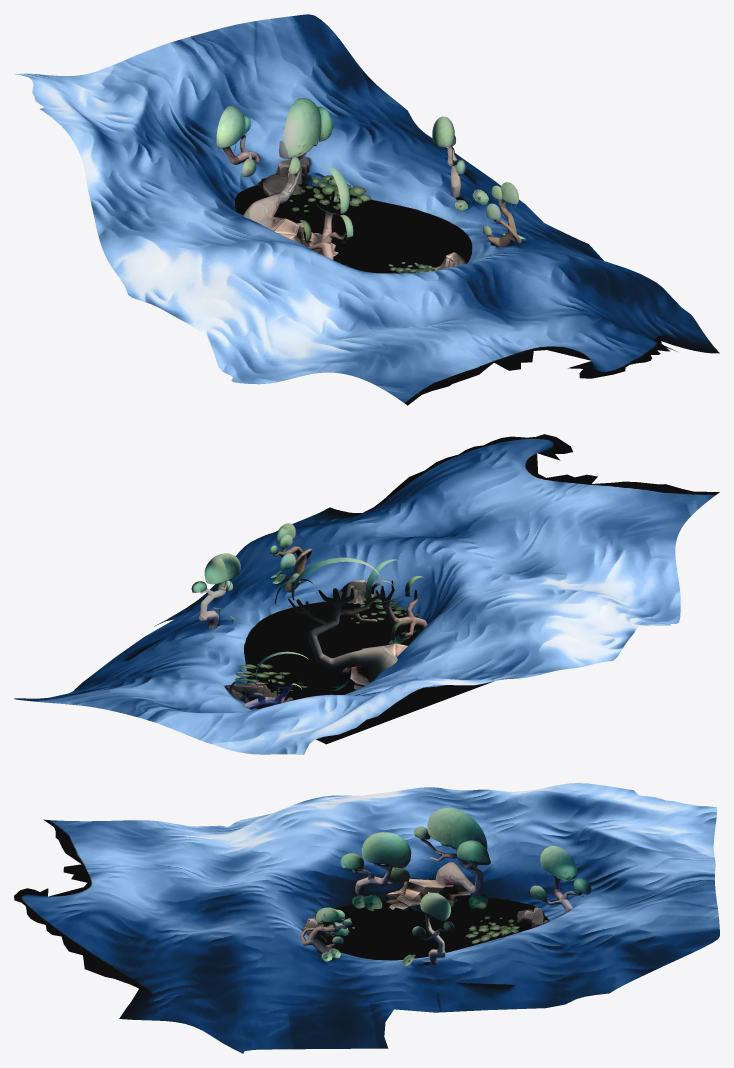
The model's file is scena_04.glb.
The picture shows the model from 3 angles, top to bottom: view 1: azimuth 30°, elevation 25°; view 2: azimuth 150°, elevation 25°; view 3: azimuth 270°, elevation 25°; orthographic projection. The views are drawn at different scales.
Visible parts, largest first — view 1: duna oasi, lake_plane, tree_03_crown, tree_04_crown, tree_03_trunk, loto_lake_right, rock_03, rock_02, tree_02_crown, tree_02_trunk, tree_05_crown, tree_01_crown (+1 smaller); view 2: duna oasi, lake_plane, tree_03_trunk, tree_05_crown, tree_02_trunk, rock_02, tree_01_crown, tree_03_crown, rock_03, tree_04_trunk, tree_02_crown, tree_05_trunk (+2 smaller); view 3: duna oasi, lake_plane, tree_03_crown, tree_02_crown, rock_02, tree_04_crown, tree_03_trunk, tree_05_crown, tree_01_crown, loto_lake_right, tree_01_trunk, tree_02_trunk (+2 smaller).
Part boxes in pixels (x1,y1,x2,y2): duna oasi: (15, 14, 719, 405); lake_plane: (235, 185, 471, 273); tree_03_crown: (279, 98, 333, 174); tree_04_crown: (216, 105, 256, 177); tree_03_trunk: (243, 153, 306, 228); loto_lake_right: (289, 175, 371, 211); rock_03: (257, 157, 309, 196); rock_02: (270, 217, 338, 256); tree_02_crown: (299, 166, 353, 240); tree_02_trunk: (303, 191, 346, 259); tree_05_crown: (432, 116, 465, 174); tree_01_crown: (483, 182, 518, 235); duna oasi: (14, 434, 719, 754); lake_plane: (244, 602, 493, 744); tree_03_trunk: (288, 586, 397, 682); tree_05_crown: (191, 553, 240, 592); tree_02_trunk: (375, 580, 427, 638); rock_02: (338, 643, 407, 691); tree_01_crown: (269, 523, 299, 583); tree_03_crown: (274, 557, 393, 606); rock_03: (225, 681, 293, 708); tree_04_trunk: (242, 674, 297, 709); tree_02_crown: (365, 559, 423, 640); tree_05_trunk: (198, 581, 227, 628); duna oasi: (14, 783, 719, 1053); lake_plane: (319, 898, 544, 960); tree_03_crown: (413, 807, 490, 865); tree_02_crown: (340, 832, 411, 881); rock_02: (386, 878, 479, 913); tree_04_crown: (530, 846, 591, 900); tree_03_trunk: (420, 838, 483, 895); tree_05_crown: (412, 893, 454, 937); tree_01_crown: (316, 907, 352, 943); loto_lake_right: (465, 916, 525, 943); tree_01_trunk: (300, 922, 348, 953); tree_02_trunk: (352, 863, 397, 895).
Bounding box in the file's own units: 174 × 61.23 × 273.
9 materials, 8 textured.
